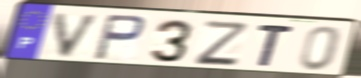0: (297, 24, 343, 72)
3: (149, 18, 195, 64)
P: (91, 13, 147, 63)
T: (255, 22, 296, 68)
V: (52, 11, 104, 59)
Z: (193, 18, 248, 66)
